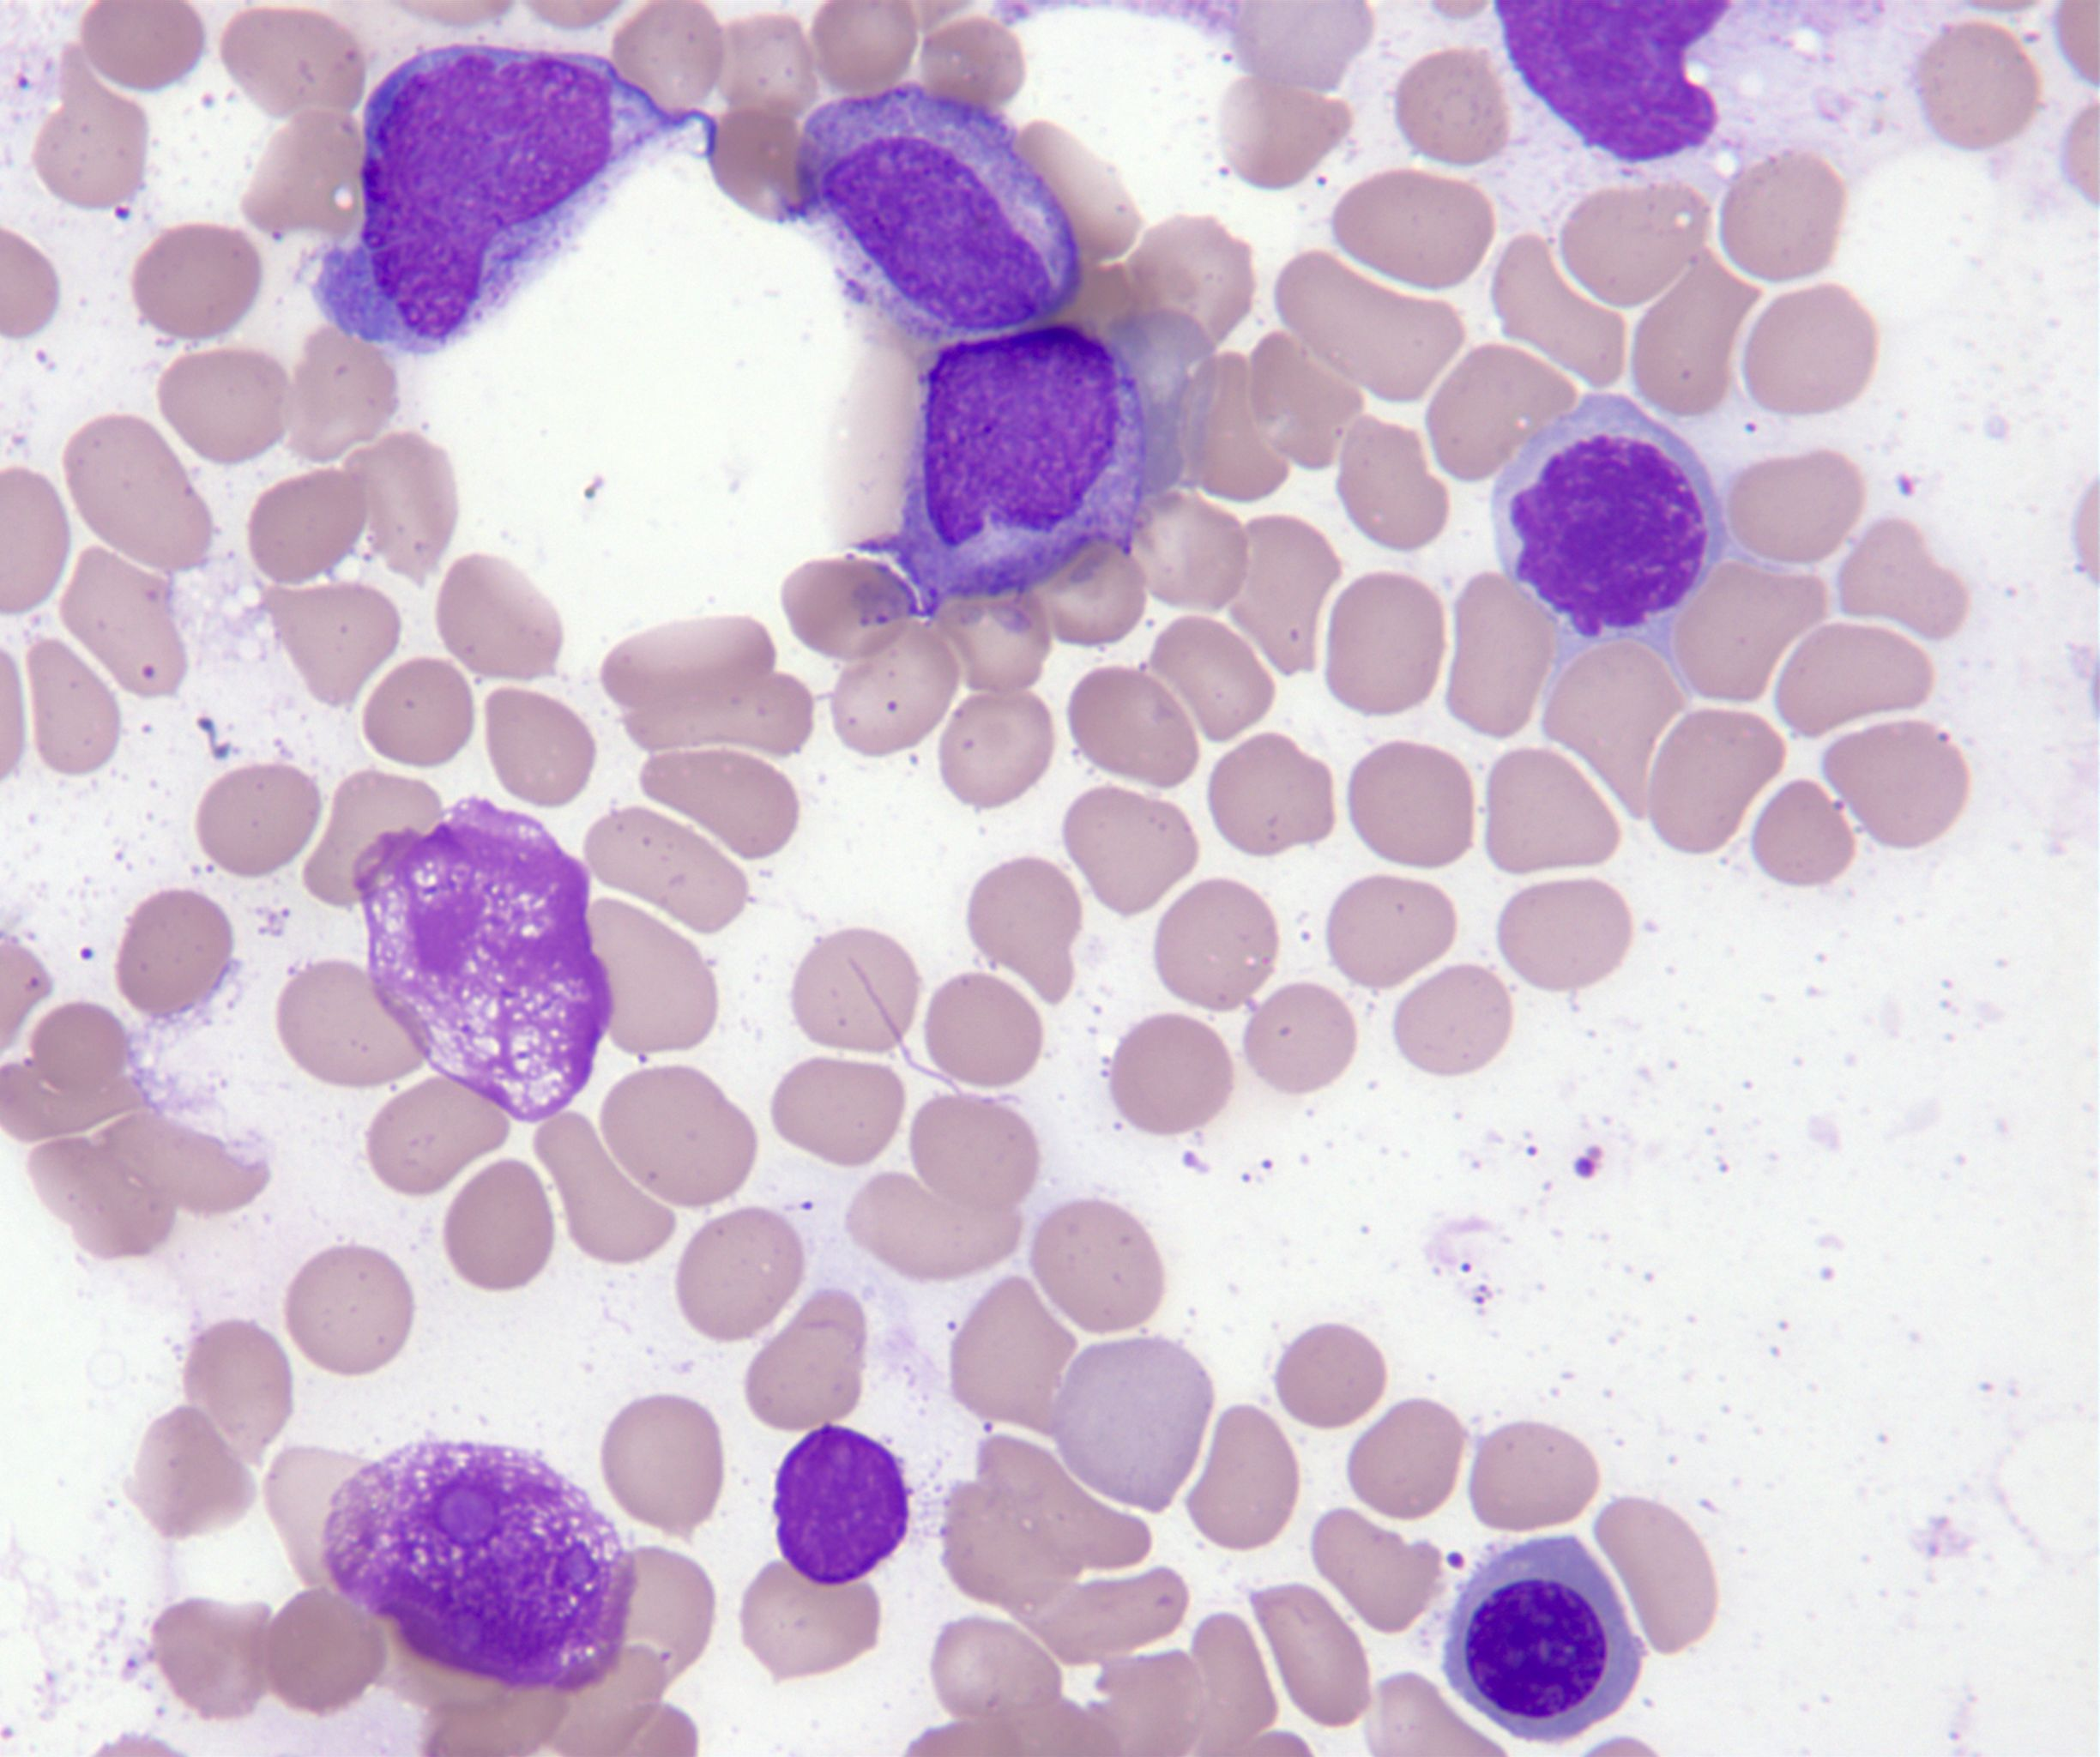23: (1493, 391, 1809, 710)
24: (1442, 1534, 1641, 1743)
3: (310, 44, 715, 354), (849, 325, 1149, 621), (776, 80, 1080, 342)
x: (354, 796, 612, 1125), (323, 1443, 638, 1694), (1491, 2, 1734, 162), (774, 1427, 907, 1588)
